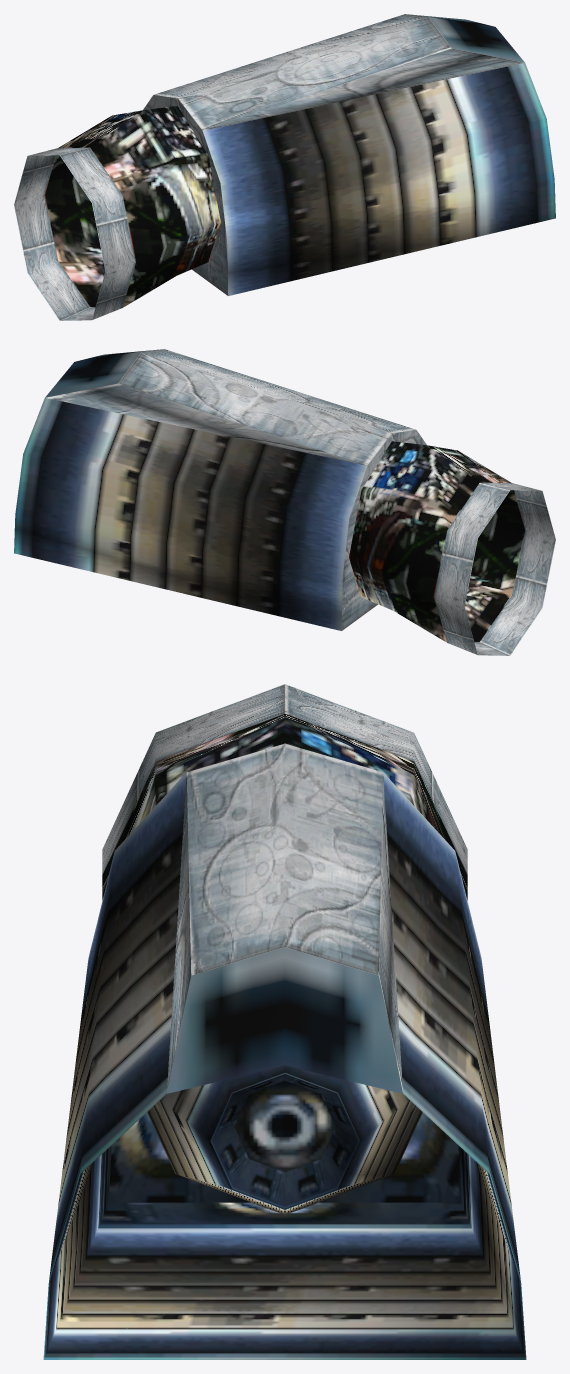
The model's file is sje01a.obj.
The picture shows the model from 3 angles, top to bottom: view 1: azimuth 30°, elevation 25°; view 2: azimuth 150°, elevation 25°; view 3: azimuth 270°, elevation 25°; orthographic projection. The views are drawn at different scales.
Visible parts, largest first — view 1: SJE010; view 2: SJE010; view 3: SJE010.
Boxes of the visible parts, x1,y1,x2,y2 form: SJE010: [14, 14, 555, 320]; SJE010: [14, 349, 555, 655]; SJE010: [43, 684, 526, 1359].
Size of the model in its own units: 18.72 by 8.78 by 8.98.
Materials: 3 (3 with a texture image).
